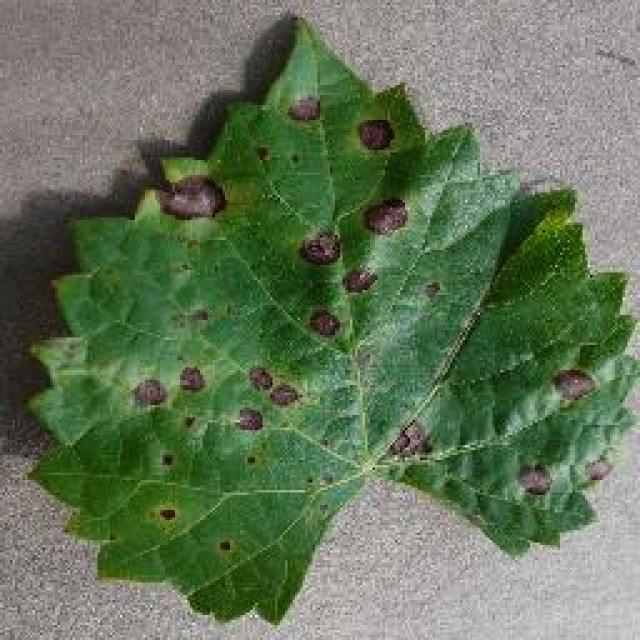Grape___Black_rot: (23, 13, 638, 631)
